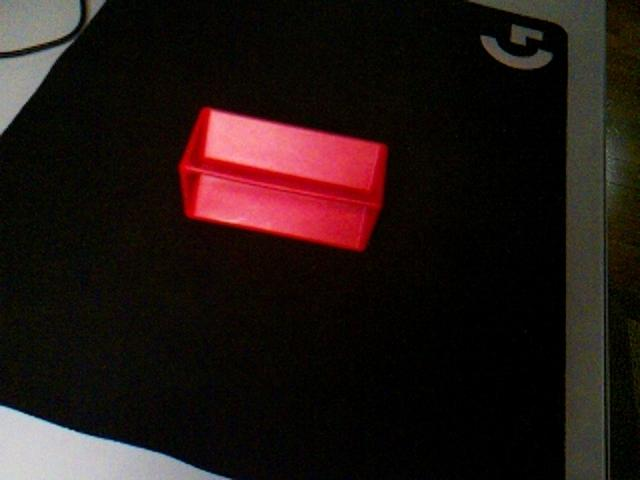red: (177, 104, 390, 254)
